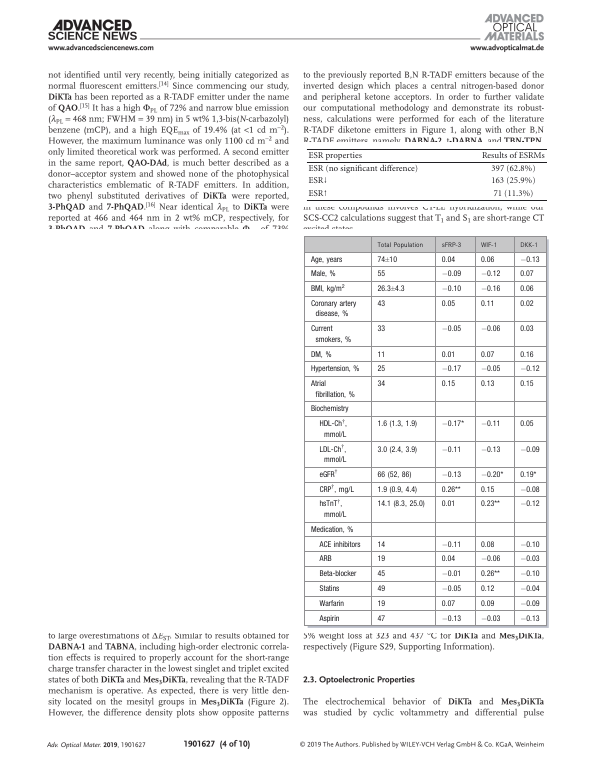bordered: (304, 234, 546, 625)
borderless: (305, 147, 547, 200)
cell: (307, 164, 419, 174), (309, 300, 357, 319), (309, 380, 355, 399), (309, 325, 352, 345), (481, 151, 546, 161), (318, 418, 347, 440), (318, 444, 347, 465), (318, 499, 347, 520), (307, 151, 363, 161), (492, 188, 534, 199), (490, 164, 536, 174), (490, 176, 536, 186), (309, 365, 360, 374), (376, 500, 425, 509), (309, 525, 354, 534), (309, 283, 345, 294), (318, 540, 361, 549), (376, 420, 418, 429), (376, 445, 418, 454), (376, 485, 418, 494), (376, 242, 423, 250), (309, 405, 349, 414), (376, 470, 412, 480), (318, 484, 354, 494), (318, 570, 357, 579), (309, 255, 343, 264), (376, 285, 405, 294), (479, 470, 504, 480), (309, 270, 336, 279), (318, 599, 345, 608), (307, 188, 329, 199), (307, 176, 329, 186), (318, 469, 338, 480), (440, 470, 462, 480), (318, 584, 340, 594), (440, 584, 462, 594), (440, 420, 464, 429), (519, 584, 540, 594), (309, 350, 332, 359), (376, 255, 398, 264), (440, 270, 462, 279), (479, 270, 501, 279), (440, 285, 462, 294), (479, 285, 501, 294), (440, 325, 462, 334), (479, 325, 501, 334), (440, 365, 462, 374), (479, 365, 501, 374), (479, 420, 501, 429), (440, 445, 462, 454), (479, 445, 501, 454), (440, 540, 462, 549), (479, 555, 501, 564), (440, 570, 462, 579), (318, 614, 340, 623), (440, 614, 462, 623), (479, 614, 501, 623), (519, 255, 540, 264), (519, 365, 540, 374), (519, 445, 540, 454), (440, 485, 461, 494), (519, 485, 540, 494), (479, 500, 500, 509), (519, 500, 540, 509), (519, 540, 540, 549), (519, 555, 540, 564), (479, 570, 500, 579), (519, 570, 540, 579), (519, 599, 540, 608), (519, 614, 540, 623), (519, 470, 537, 480), (440, 242, 462, 250), (479, 584, 495, 594), (519, 242, 538, 250), (479, 242, 497, 250), (440, 255, 456, 264), (479, 255, 495, 264), (440, 300, 456, 309), (479, 300, 495, 309), (440, 350, 456, 359), (479, 350, 495, 359), (440, 380, 456, 389), (479, 380, 495, 389), (479, 485, 495, 494), (440, 500, 456, 509), (479, 540, 495, 549), (440, 555, 456, 564), (440, 599, 456, 608), (479, 599, 495, 608), (519, 270, 534, 279), (519, 285, 534, 294), (519, 300, 534, 309), (519, 325, 534, 334), (519, 350, 534, 359), (519, 380, 534, 389), (519, 420, 534, 429), (318, 555, 332, 564), (376, 584, 386, 594), (376, 270, 386, 279), (376, 300, 386, 309), (376, 325, 386, 334), (376, 350, 386, 359), (376, 365, 386, 374), (376, 380, 386, 389), (376, 540, 386, 549), (376, 555, 386, 564), (376, 570, 386, 579), (376, 599, 386, 608), (376, 614, 386, 623)
